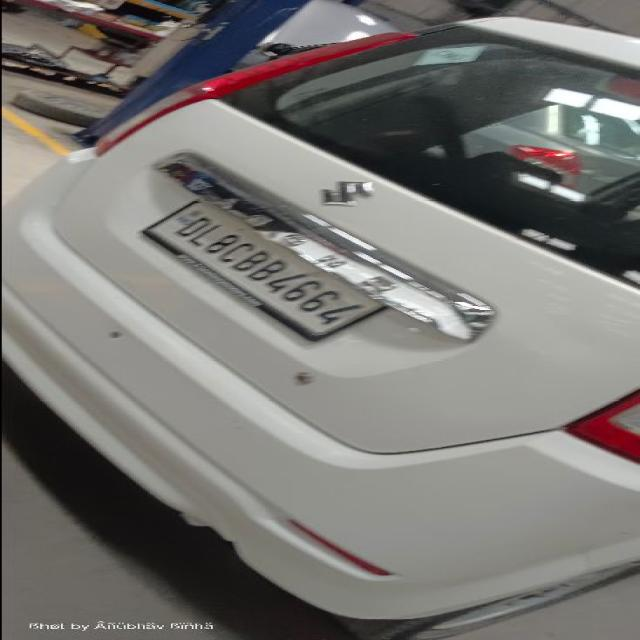license_plate: (4, 16, 636, 630), (138, 197, 387, 341)
